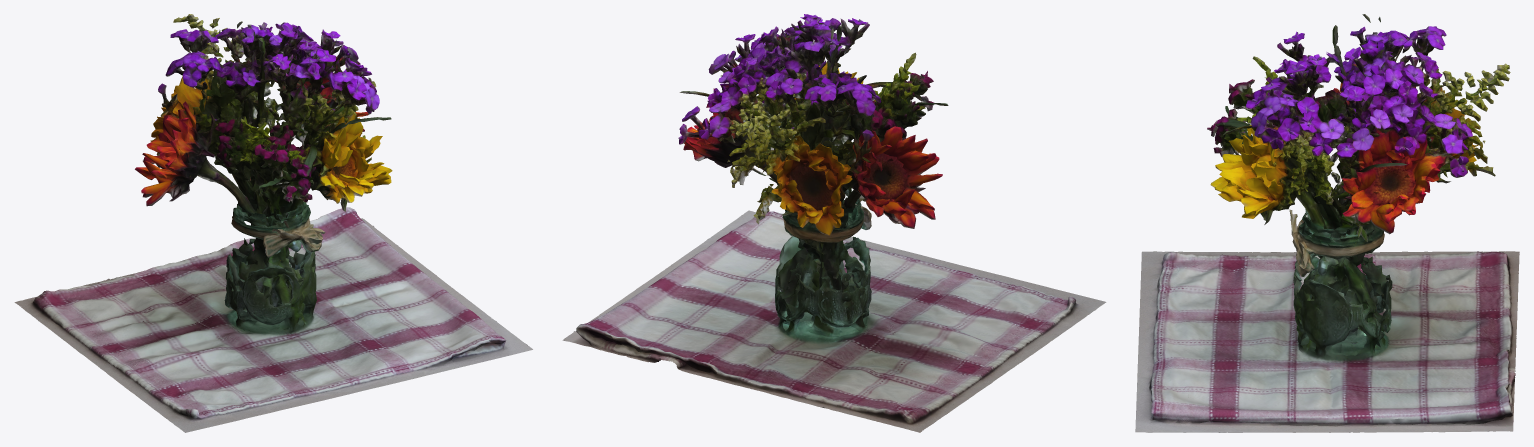
The model's file is obj_april_flowers_5612ac.glb.
The picture shows the model from 3 angles, left to right: view 1: azimuth 30°, elevation 25°; view 2: azimuth 150°, elevation 25°; view 3: azimuth 270°, elevation 25°; orthographic projection. The views are drawn at different scales.
Parts seen in each view (by area): view 1: obj_april_flowers_5612ac; view 2: obj_april_flowers_5612ac; view 3: obj_april_flowers_5612ac.
Boxes of the visible parts, box(x1,y1,x2,y2) form: obj_april_flowers_5612ac: box(14, 14, 532, 432); obj_april_flowers_5612ac: box(562, 14, 1106, 432); obj_april_flowers_5612ac: box(1135, 14, 1519, 432).
Bounding box in the file's own units: 0.5527 × 0.45 × 0.4873.
1 material, 1 textured.
